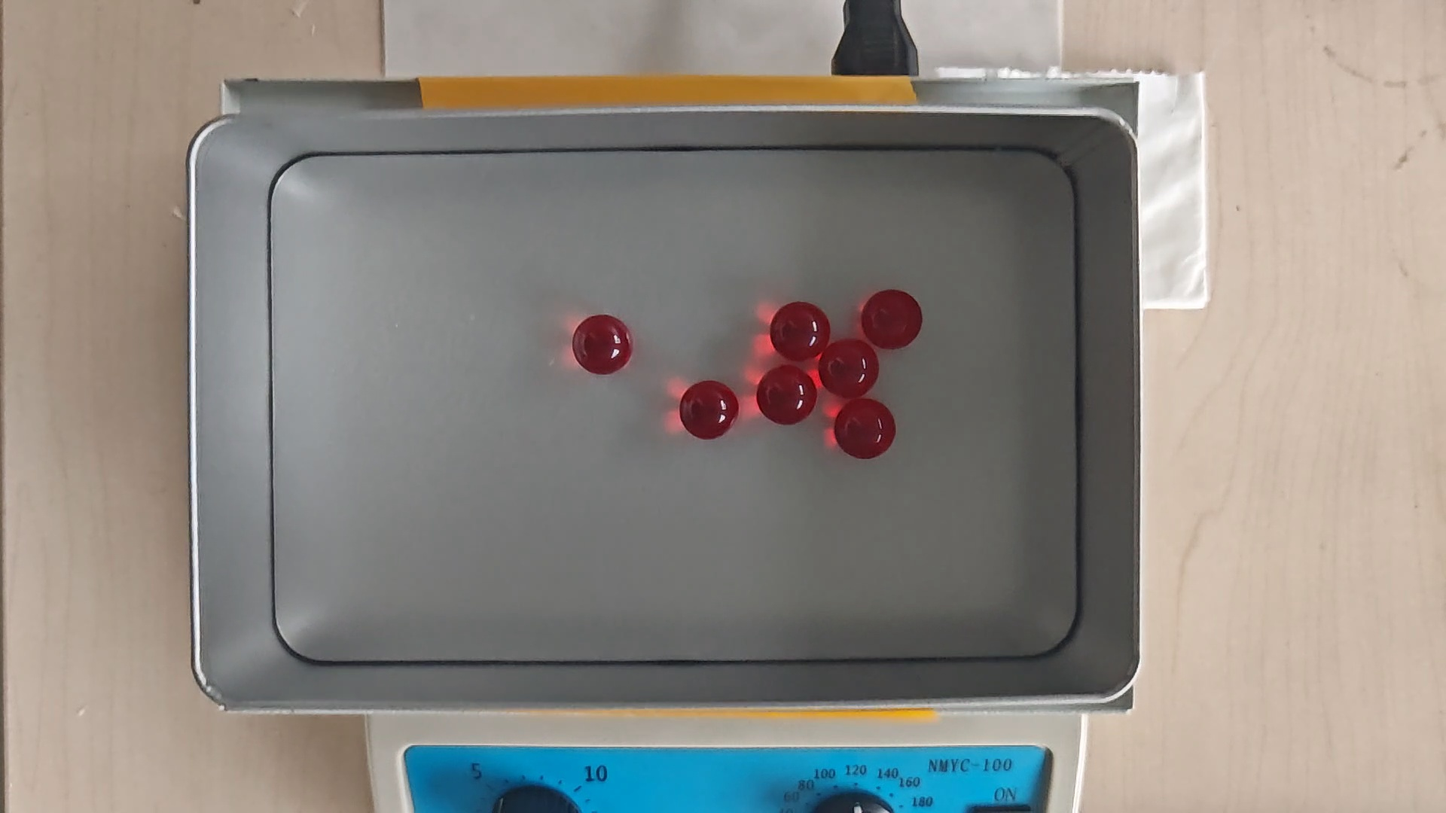ball: (754, 361, 819, 425), (571, 312, 634, 377), (677, 379, 740, 442), (768, 300, 830, 362), (859, 289, 923, 349), (817, 340, 881, 399), (835, 399, 896, 459)
container: (271, 148, 1078, 661)
